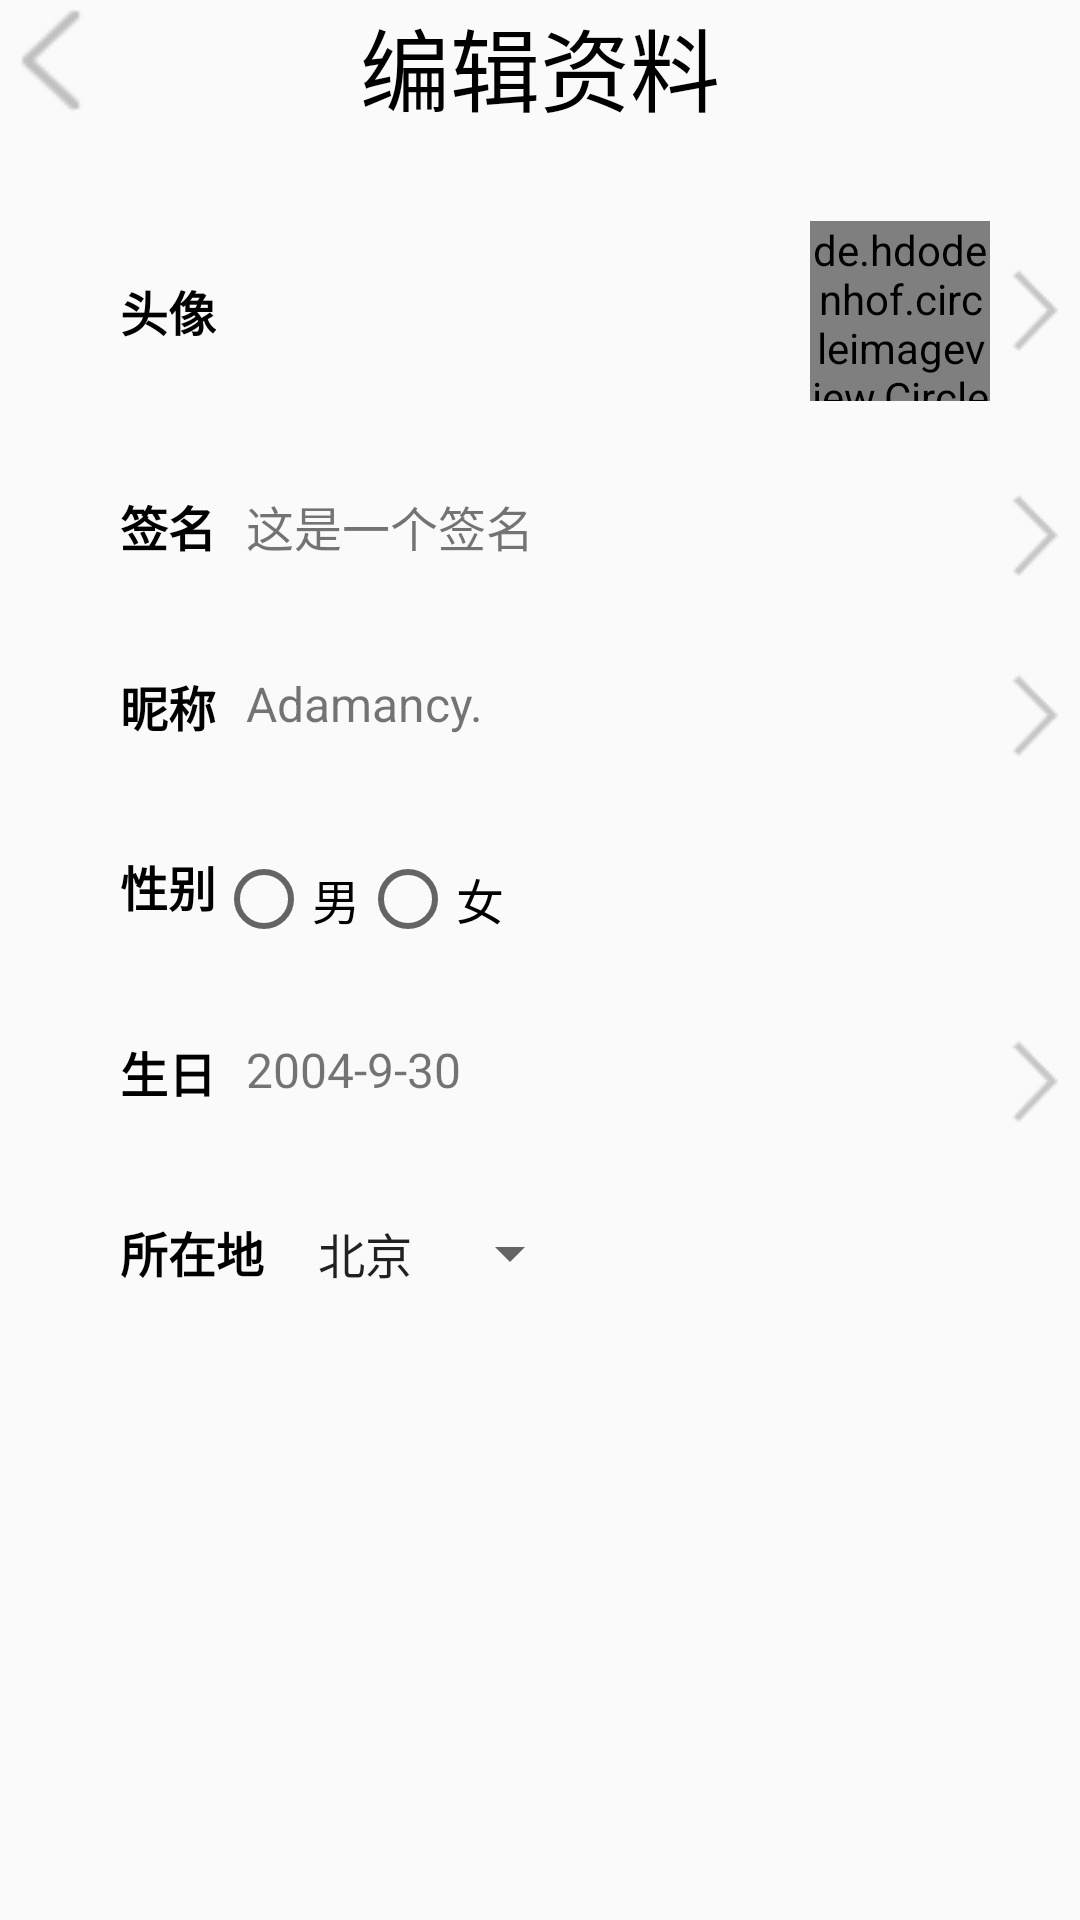

Named icons in this screenshot (1080*1920) and their centers, [x,y]:
back: [50,60]
